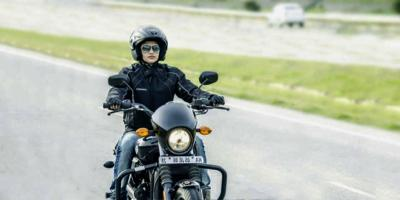With Helmet: (128, 23, 170, 66)
